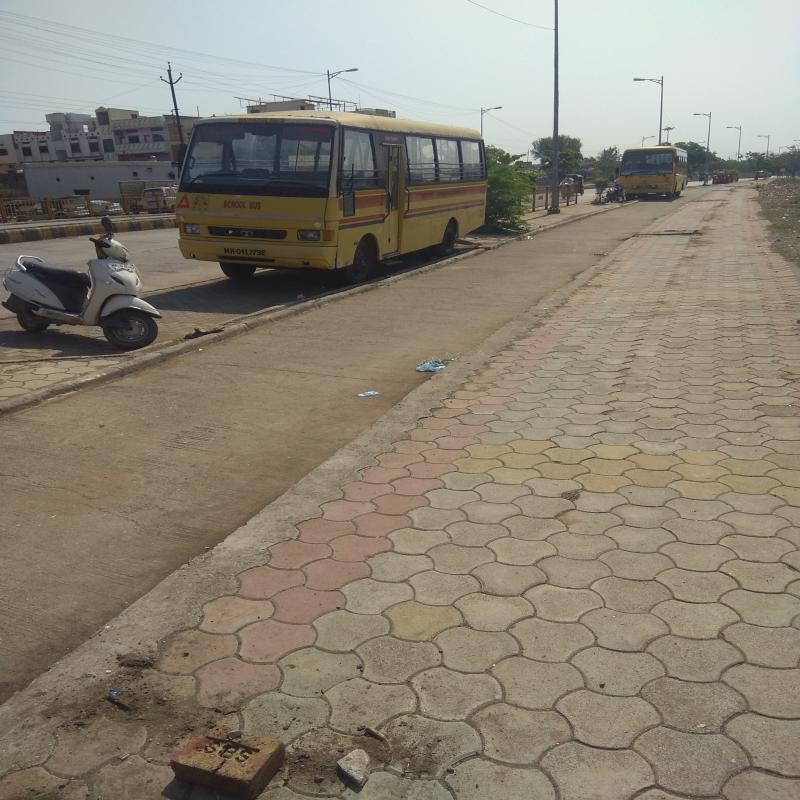bus: (186, 117, 489, 271)
